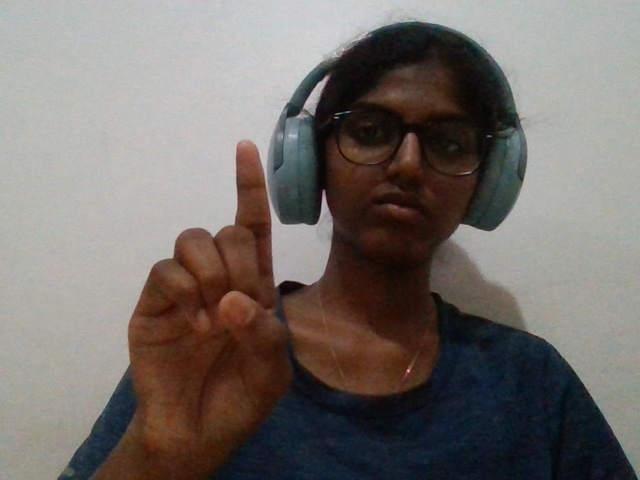D: (84, 134, 295, 480)
